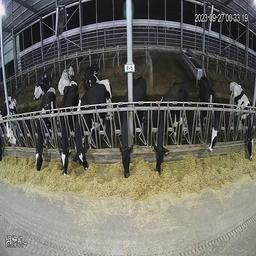cow: (73, 80, 114, 170), (154, 77, 187, 172), (120, 76, 146, 175), (227, 80, 252, 161), (198, 75, 221, 162), (35, 87, 57, 172), (59, 78, 77, 177), (5, 98, 19, 151), (82, 62, 105, 91), (56, 64, 77, 93), (33, 74, 50, 97)
